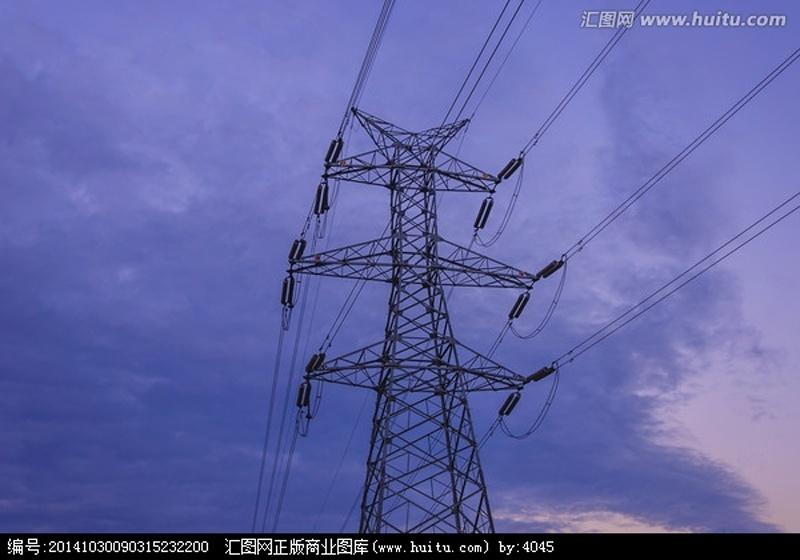power_tower: (289, 119, 568, 533)
